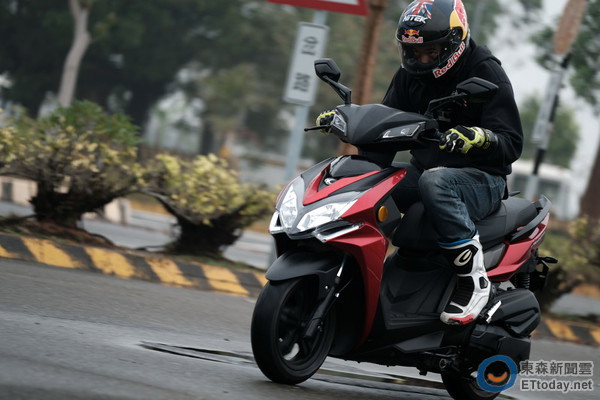helmet: (397, 1, 474, 74)
